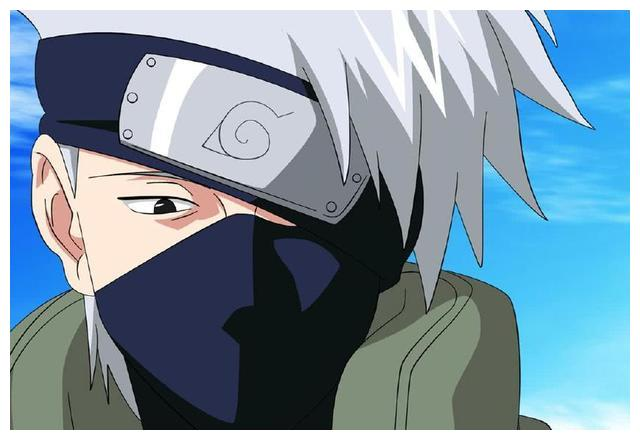kakashi: (27, 30, 425, 426)
